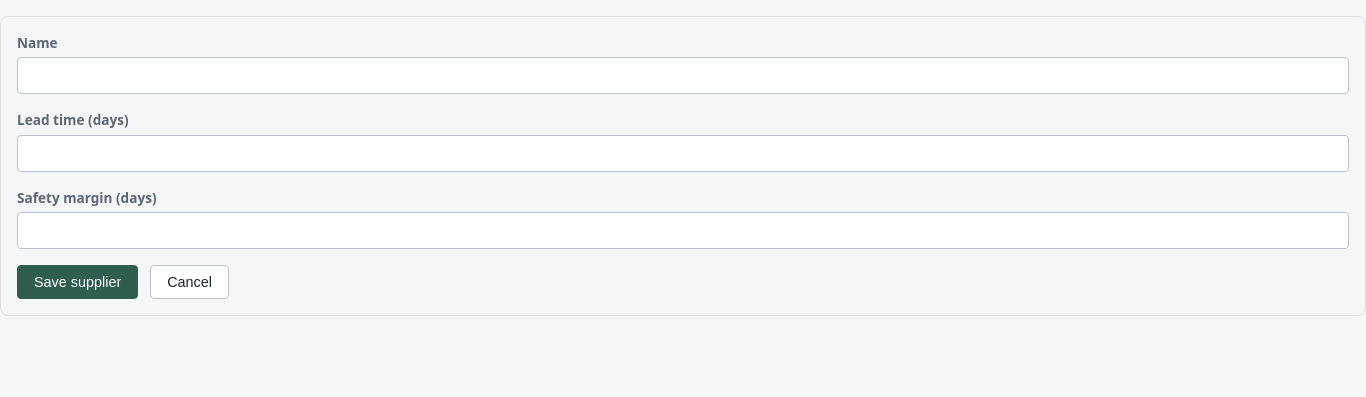
Test: SupplierForm › blocks submit with an inline error when lead time is negative
This screenshot has width=1366, height=397.
In the field labelled "Name": (683, 76) x1=17 y1=57 x2=1349 y2=94, type "Acme Produce Co"
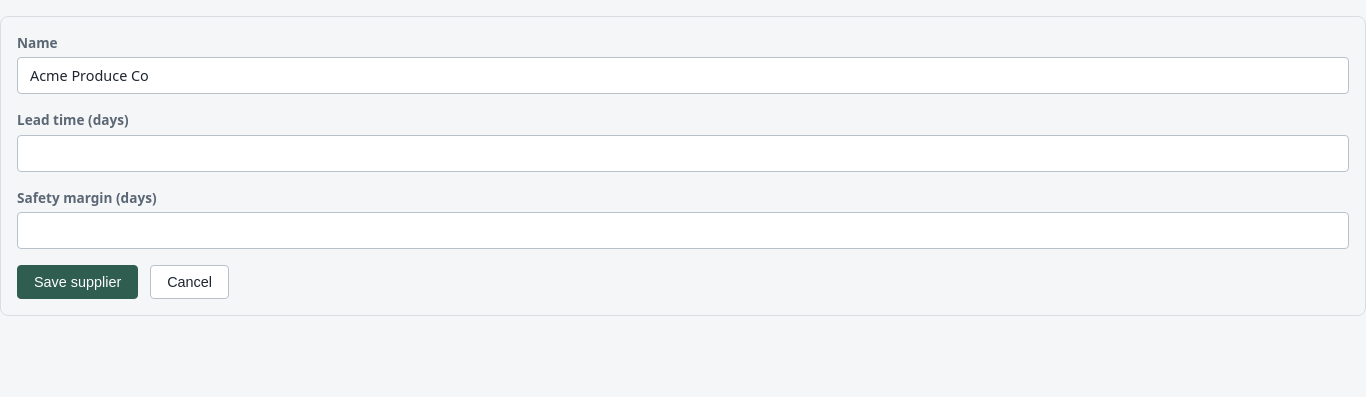
In the number field labelled "Lead time (days)": (683, 153) x1=17 y1=135 x2=1349 y2=172, type "-1"
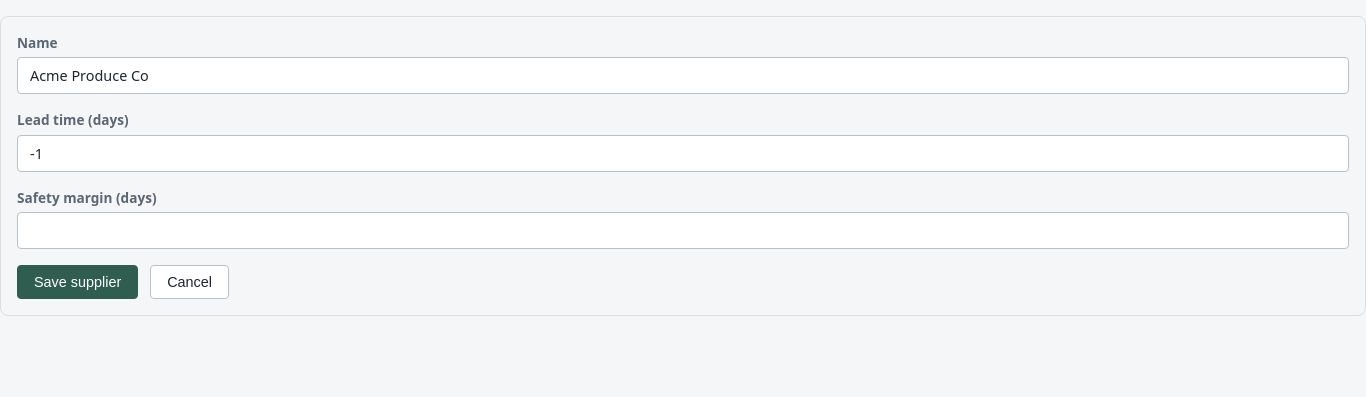
Click the button "Save supplier": (78, 282) x1=17 y1=265 x2=138 y2=299
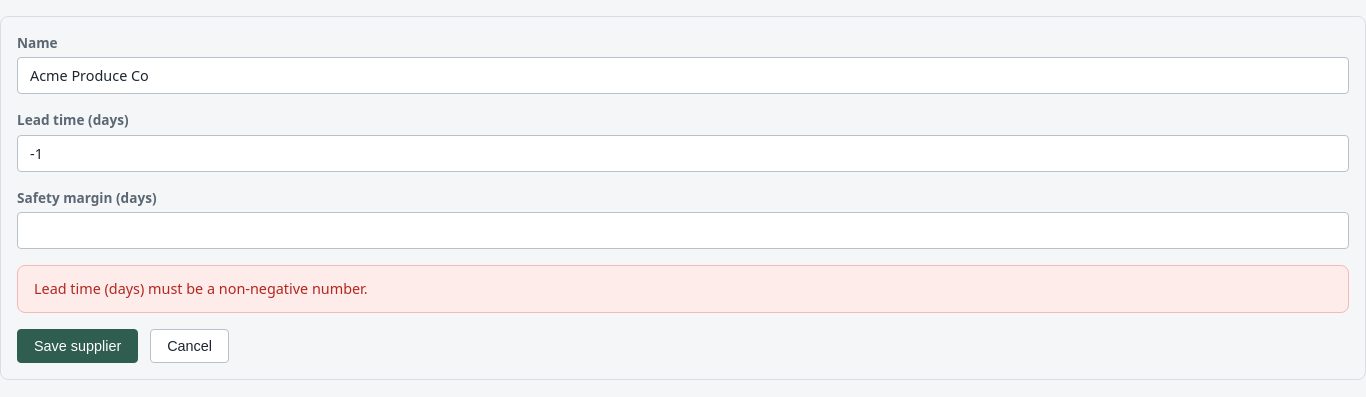
Result: the message shows "non-negative" at x1=34 y1=279 x2=368 y2=298
